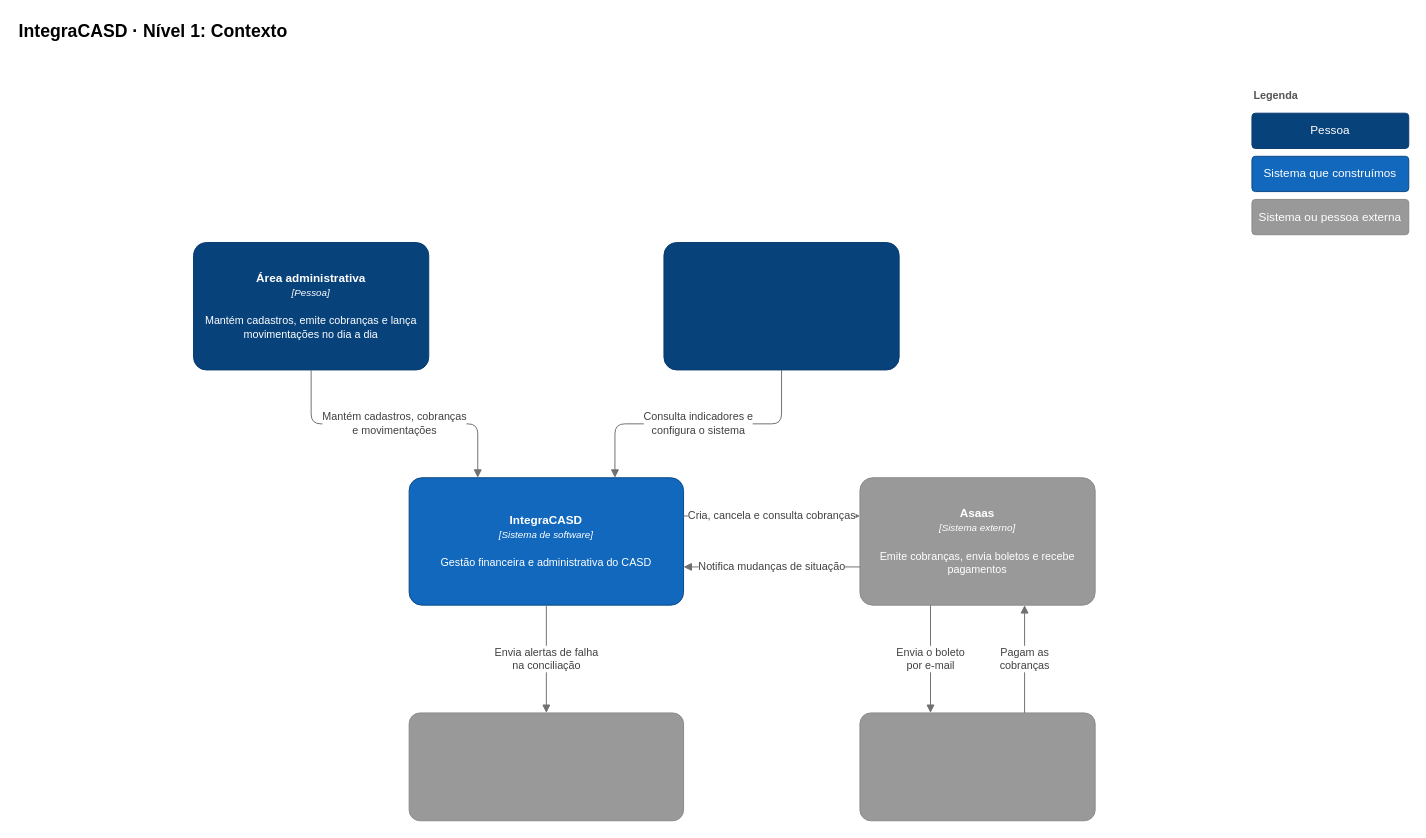
Some shapes in this 1426 by 838 pixel diagram are drawn without their labels. Each missing label, with the centre of its shape:
"Alunos [Pessoa externa] Pagadores; não acessam o sistema" belongs at point (977, 766).
"Diretoria do CASD [Pessoa] Acompanha indicadores e configura o sistema" belongs at point (781, 306).
"Serviço de e-mail [Sistema externo] Envia os alertas do sistema" belongs at point (546, 766).
